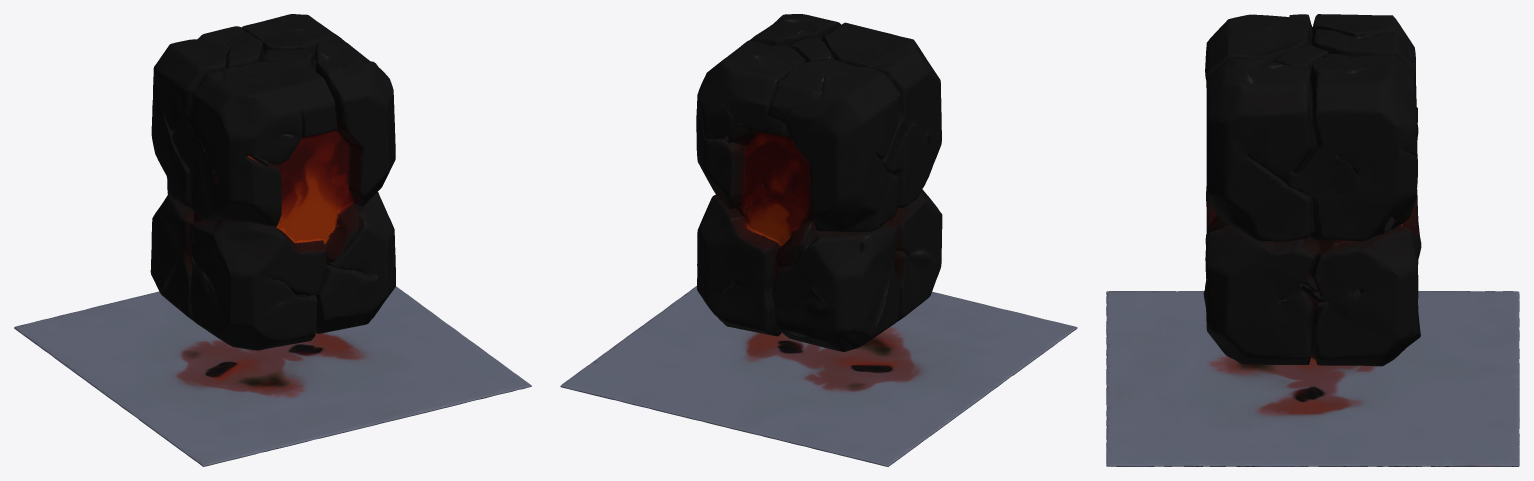
The model's file is mat_magma.glb.
The picture shows the model from 3 angles, left to right: view 1: azimuth 30°, elevation 25°; view 2: azimuth 150°, elevation 25°; view 3: azimuth 270°, elevation 25°; orthographic projection. The views are drawn at different scales.
Visible parts, largest first — view 1: geometry_0; view 2: geometry_0; view 3: geometry_0.
Boxes of the visible parts, x1,y1,x2,y2 form: geometry_0: (14,14,531,466); geometry_0: (560,14,1077,466); geometry_0: (1106,14,1519,466).
Bounding box in the file's own units: 1 × 0.8914 × 1.
1 material, 1 textured.
